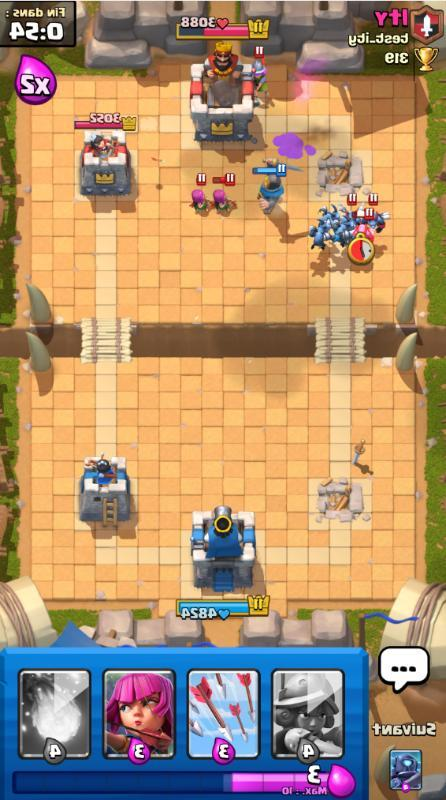archere: (212, 173, 239, 214), (188, 174, 214, 213)
chevalier: (252, 158, 304, 215)
gargouille: (362, 192, 391, 233), (338, 193, 365, 225), (307, 219, 332, 251), (351, 208, 374, 242), (317, 204, 341, 233), (332, 217, 355, 247)
mousquetaire: (251, 46, 268, 107)
